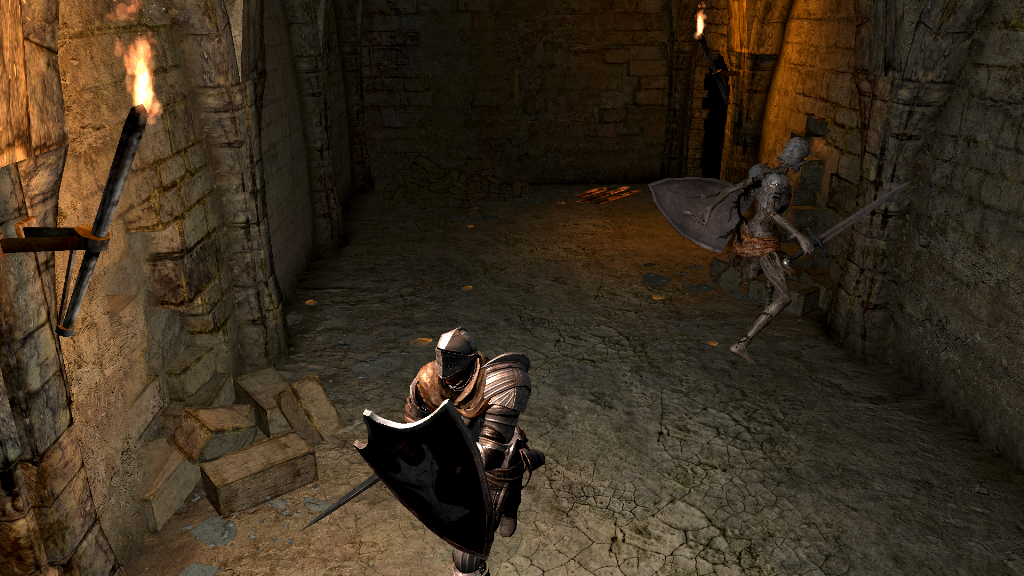player: (301, 327, 547, 576)
undeadSoldier: (694, 135, 818, 367)
